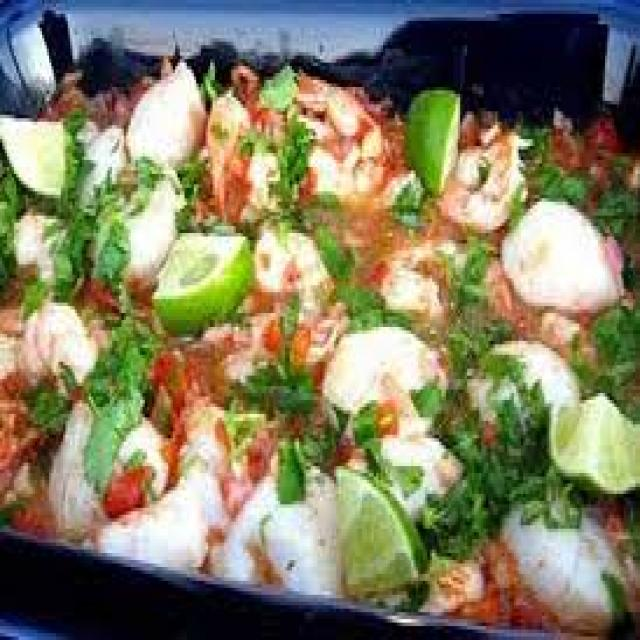Lemon: (338, 464, 420, 592), (551, 396, 640, 494), (155, 232, 251, 321), (407, 88, 463, 190)
